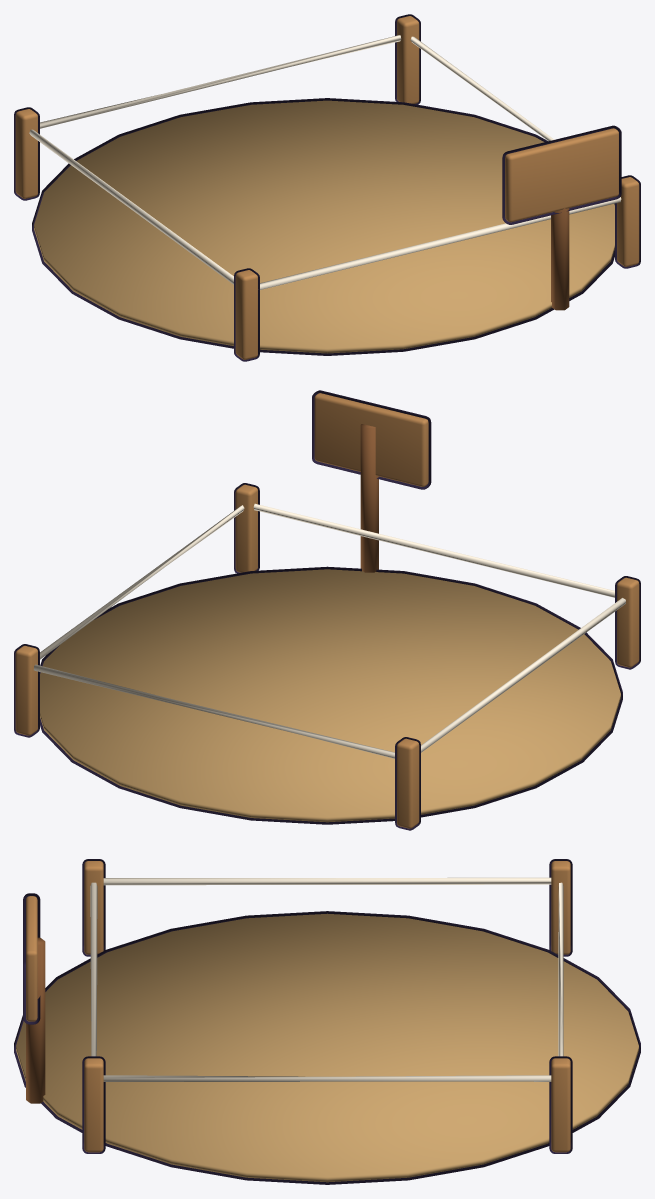
The model's file is plot.glb.
3 renders of one model, top to bottom at view 1: azimuth 30°, elevation 25°; view 2: azimuth 150°, elevation 25°; view 3: azimuth 270°, elevation 25°, orthographic. The views are drawn at different scales.
Visible parts, largest first — view 1: dirt, box.004, rope, box, box.003, box.001, box.002, signpost; view 2: dirt, box.004, rope, signpost, box.003, box.002, box, box.001; view 3: dirt, rope, box.001, box.002, signpost, box.004, box.003, box.
Part boxes in pixels (left/top/right/bottom): dirt: left=32, top=98, right=614, bottom=355; box.004: left=502, top=125, right=621, bottom=224; rope: left=29, top=35, right=621, bottom=289; box: left=234, top=268, right=259, bottom=361; box.003: left=14, top=107, right=39, bottom=200; box.001: left=615, top=175, right=640, bottom=268; box.002: left=395, top=14, right=420, bottom=104; signpost: left=551, top=207, right=569, bottom=310; dirt: left=40, top=566, right=622, bottom=824; box.004: left=312, top=390, right=431, bottom=489; rope: left=33, top=503, right=625, bottom=758; signpost: left=360, top=424, right=378, bottom=572; box.003: left=395, top=737, right=420, bottom=830; box.002: left=14, top=644, right=39, bottom=737; box: left=615, top=576, right=640, bottom=669; box.001: left=234, top=483, right=259, bottom=573; dirt: left=14, top=911, right=640, bottom=1184; rope: left=90, top=877, right=563, bottom=1081; box.001: left=82, top=1056, right=105, bottom=1153; box.002: left=549, top=1056, right=572, bottom=1153; signpost: left=26, top=937, right=45, bottom=1103; box.004: left=23, top=893, right=40, bottom=1024; box.003: left=549, top=859, right=572, bottom=956; box: left=82, top=859, right=105, bottom=956.
Size of the model in its own units: 3.22 by 1.03 by 3.22.
